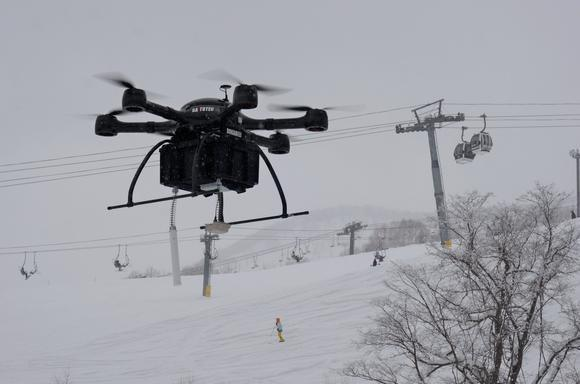UAV: (94, 80, 332, 236)
